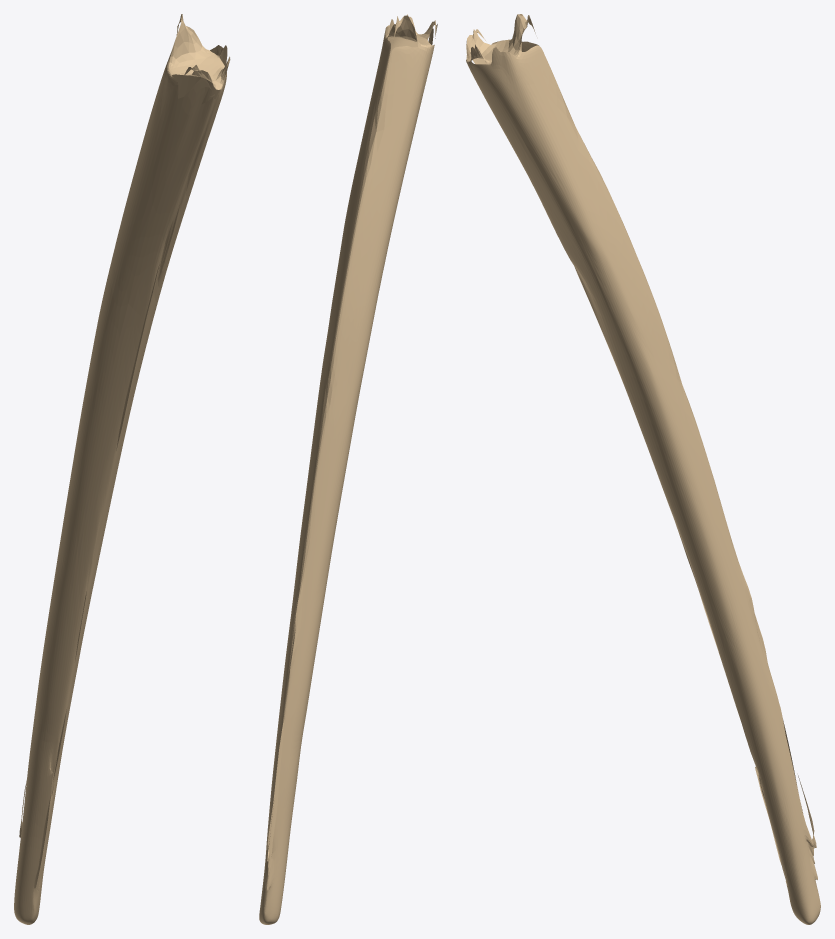
File: midollo_spinale.glb
3 views of the same model, side by side, from view 1: azimuth 30°, elevation 25°; view 2: azimuth 150°, elevation 25°; view 3: azimuth 270°, elevation 25° (orthographic). The views are drawn at different scales.
Parts seen in each view (by area): view 1: spinal cord; view 2: spinal cord; view 3: spinal cord.
Boxes of the visible parts, <box> form: spinal cord: <box>14,14,230,924</box>; spinal cord: <box>259,14,437,924</box>; spinal cord: <box>466,14,820,924</box>.
Bounding box in the file's own units: 2.18 × 36.71 × 13.03.
